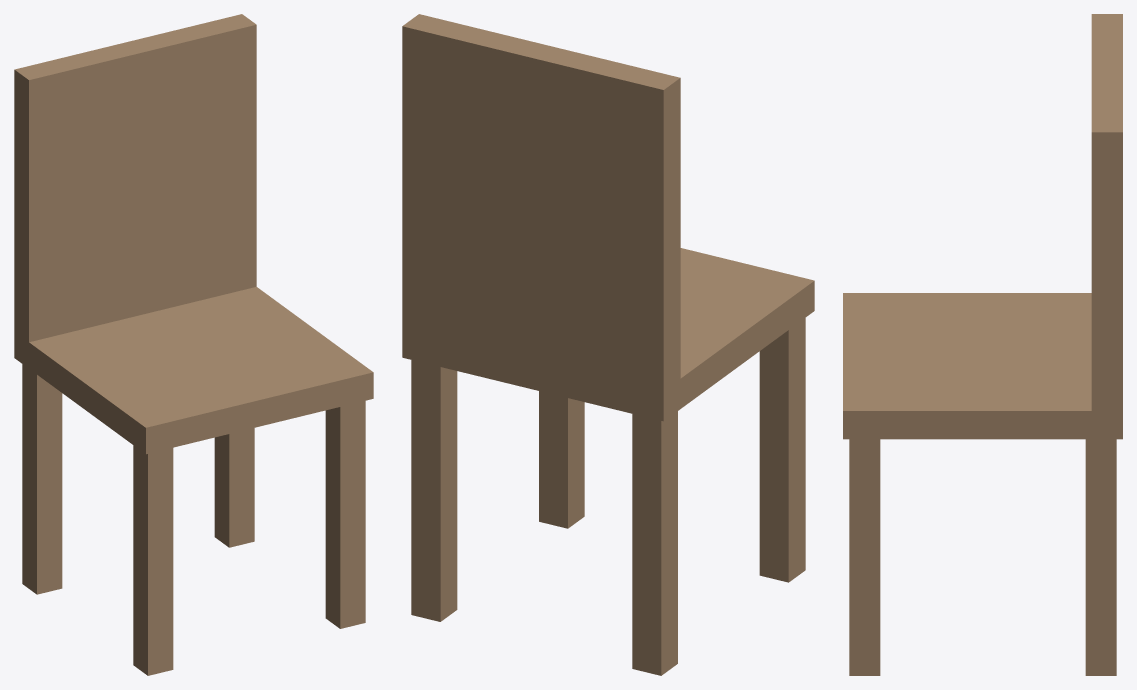
The model's file is chair.glb.
3 views of the same model, side by side, from view 1: azimuth 30°, elevation 25°; view 2: azimuth 150°, elevation 25°; view 3: azimuth 270°, elevation 25° (orthographic). The views are drawn at different scales.
Visible parts, largest first — view 1: geometry_1, geometry_0, geometry_3, geometry_5, geometry_2, geometry_4; view 2: geometry_1, geometry_0, geometry_4, geometry_2, geometry_3, geometry_5; view 3: geometry_0, geometry_1, geometry_4, geometry_5.
Part boxes in pixels (x1,y1,x2,y2): geometry_1: (14, 14, 256, 343); geometry_0: (14, 287, 373, 454); geometry_3: (133, 445, 173, 675); geometry_5: (325, 401, 365, 628); geometry_2: (22, 364, 62, 594); geometry_4: (214, 428, 254, 547); geometry_1: (402, 14, 680, 390); geometry_0: (402, 248, 814, 421); geometry_4: (411, 360, 457, 621); geometry_2: (632, 411, 677, 675); geometry_3: (759, 318, 805, 582); geometry_5: (539, 391, 584, 528); geometry_0: (843, 293, 1122, 439); geometry_1: (1091, 14, 1122, 413); geometry_4: (1085, 439, 1116, 675); geometry_5: (849, 439, 880, 675).
Bounding box in the file's own units: 0.45 × 0.97 × 0.45.
